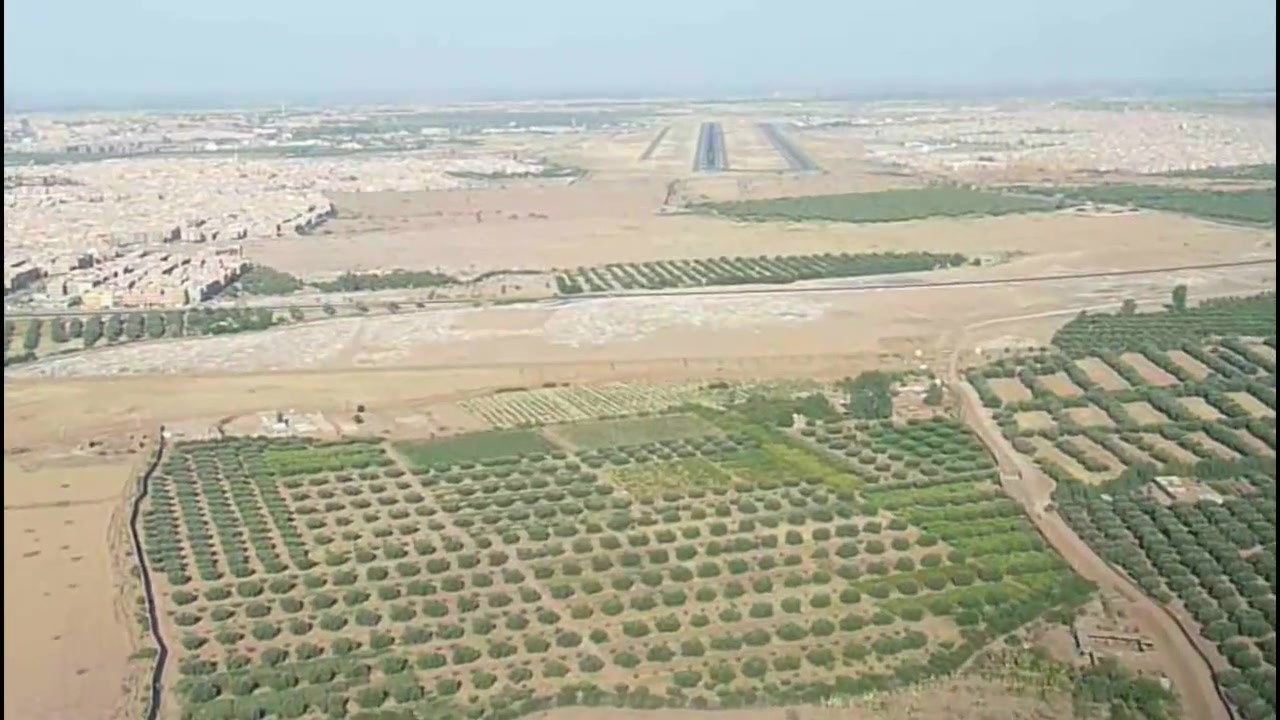runway: (691, 120, 729, 176)
